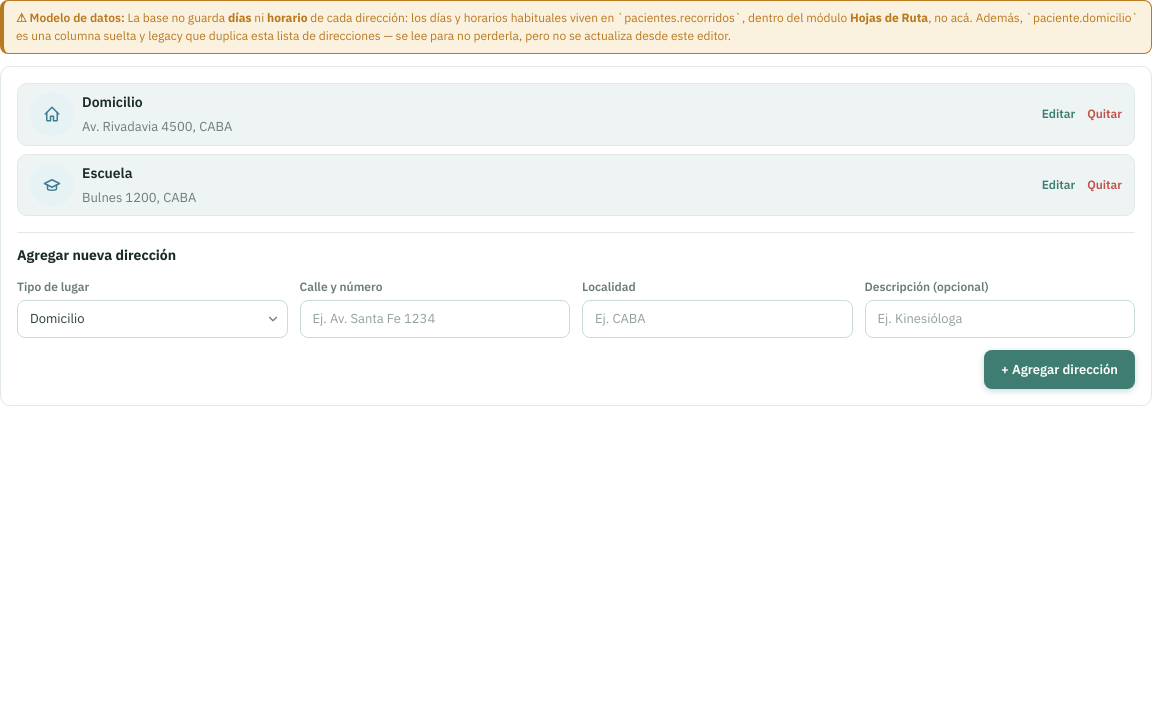
Test: DireccionesEditor — protección al quitar una actividad con documentación (Checkpoint (e)) › 6.2 confirmar el diálogo de advertencia quita la dirección
This screenshot has width=1152, height=720.
Click the button with aria-label "quitar escuela": (1105, 185) [1087, 177, 1122, 193]
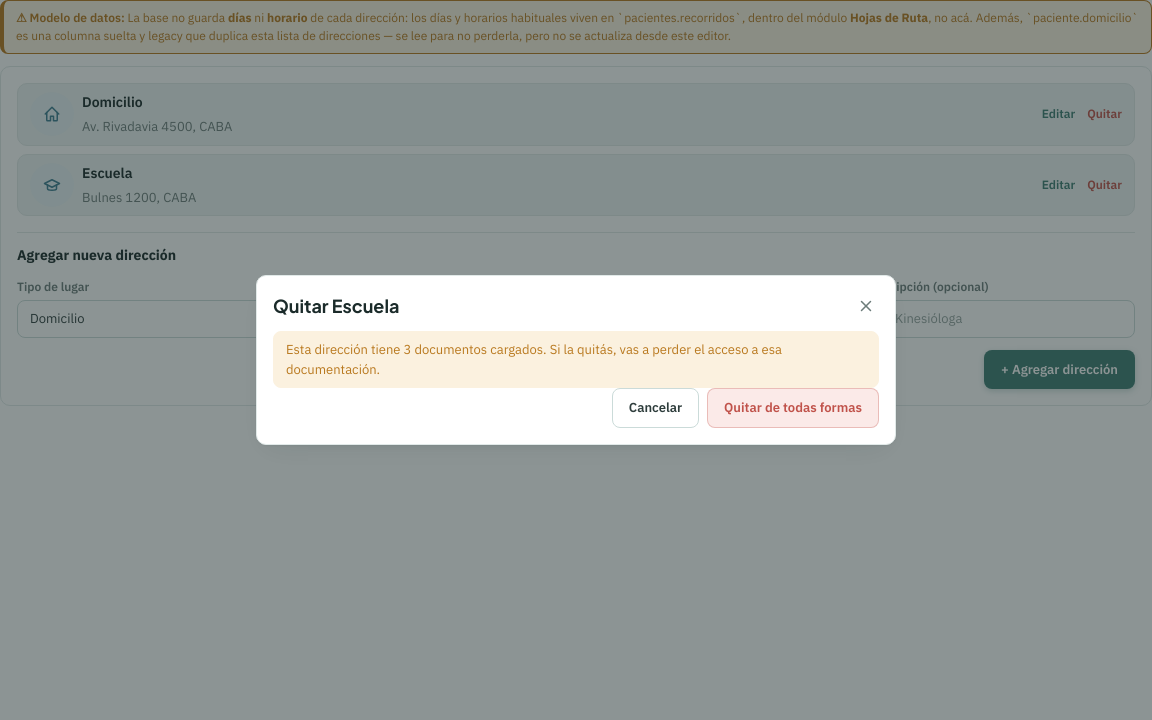
Click the button "Quitar de todas formas": (793, 408) [707, 388, 879, 428]
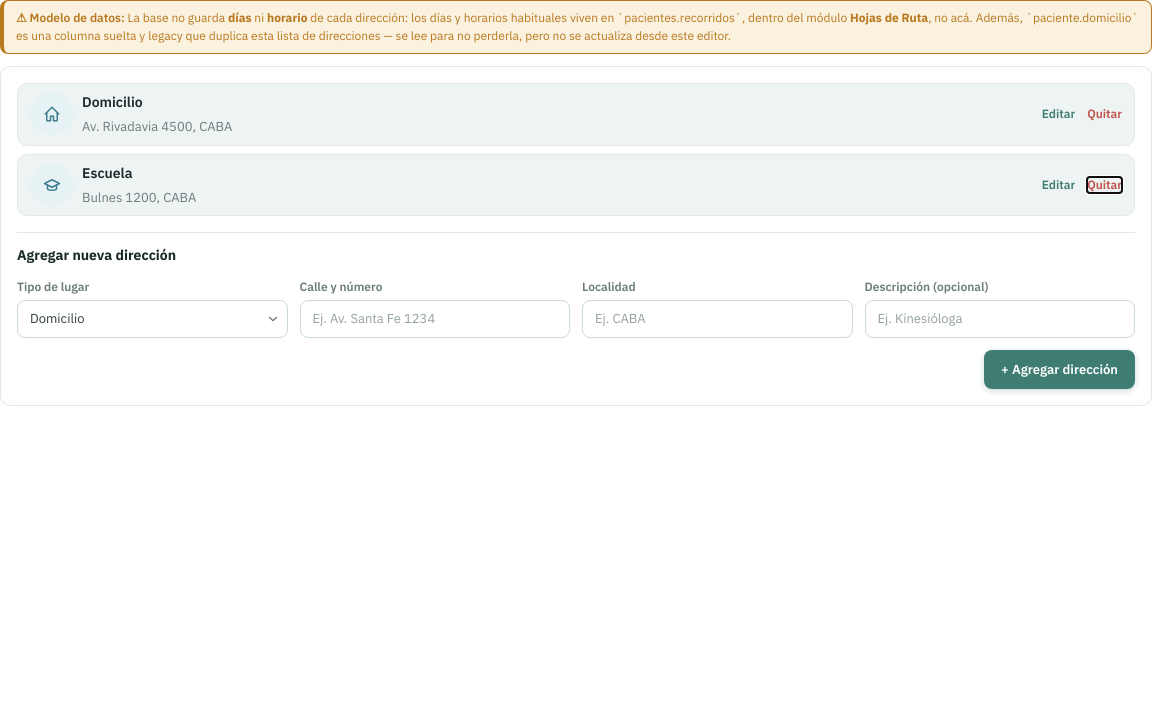
Check: the dialog is gone
